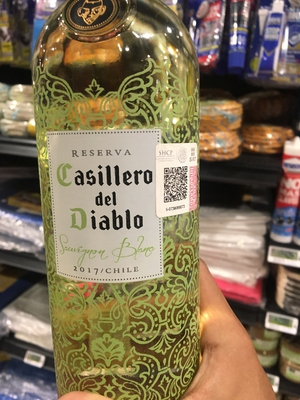casillero del diablo sauvignon blanc: (27, 6, 214, 388)
